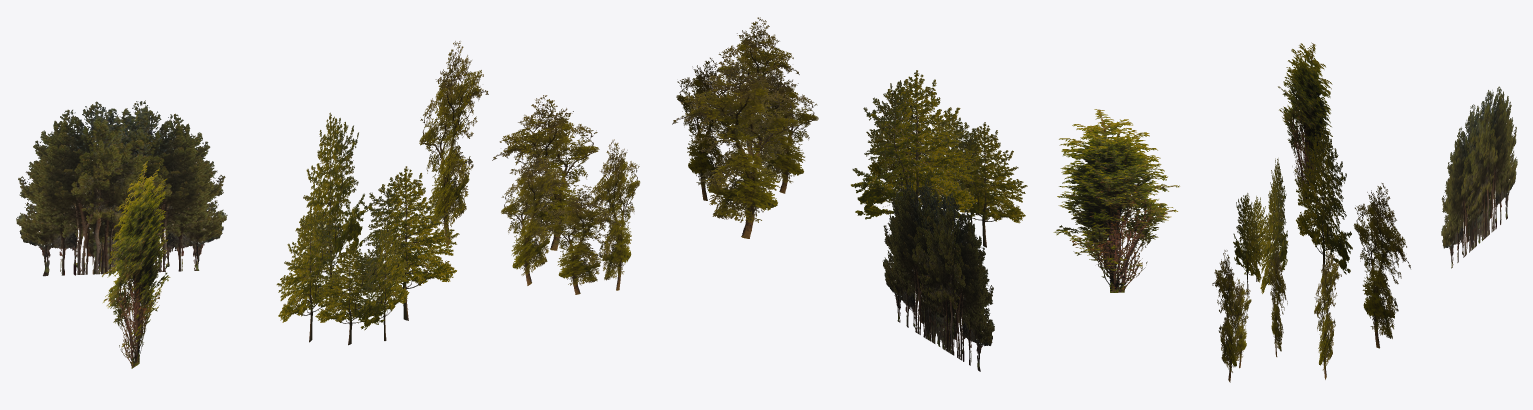
File: rung cay.fbx
3 renders of one model, left to right at view 1: azimuth 30°, elevation 25°; view 2: azimuth 150°, elevation 25°; view 3: azimuth 270°, elevation 25°, orthographic. The views are drawn at different scales.
Visible parts, largest first — view 1: pPlane6, pPlane1 (×3), pPlane3 (×2), pPlane4 (×2), pPlane5 (×2), pPlane2 (×2); view 2: pPlane1 (×3), pPlane6, pPlane4 (×2), pPlane3 (×2), pPlane2 (×2); view 3: pPlane1 (×3), pPlane6, pPlane3 (×2), pPlane2 (×2), pPlane4 (×2), pPlane5 (×2).
Boxes of the visible parts, left/top/right/bottom form: pPlane6: left=16, top=100, right=227, bottom=276; pPlane1 (×3): left=102, top=41, right=488, bottom=368; pPlane3 (×2): left=351, top=95, right=599, bottom=320; pPlane4 (×2): left=276, top=146, right=568, bottom=342; pPlane5 (×2): left=314, top=185, right=621, bottom=345; pPlane2 (×2): left=359, top=139, right=640, bottom=340; pPlane1 (×3): left=672, top=52, right=1179, bottom=292; pPlane6: left=882, top=178, right=994, bottom=371; pPlane4 (×2): left=744, top=65, right=1027, bottom=247; pPlane3 (×2): left=676, top=57, right=935, bottom=221; pPlane2 (×2): left=717, top=17, right=987, bottom=200; pPlane1 (×3): left=1278, top=42, right=1410, bottom=348; pPlane6: left=1441, top=86, right=1517, bottom=268; pPlane3 (×2): left=1260, top=178, right=1341, bottom=379; pPlane2 (×2): left=1212, top=193, right=1261, bottom=382; pPlane4 (×2): left=1268, top=158, right=1288, bottom=356; pPlane5 (×2): left=1224, top=196, right=1268, bottom=368.
Size of the model in its own units: 61.93 by 25.37 by 37.34.
4 materials, 4 textured.
